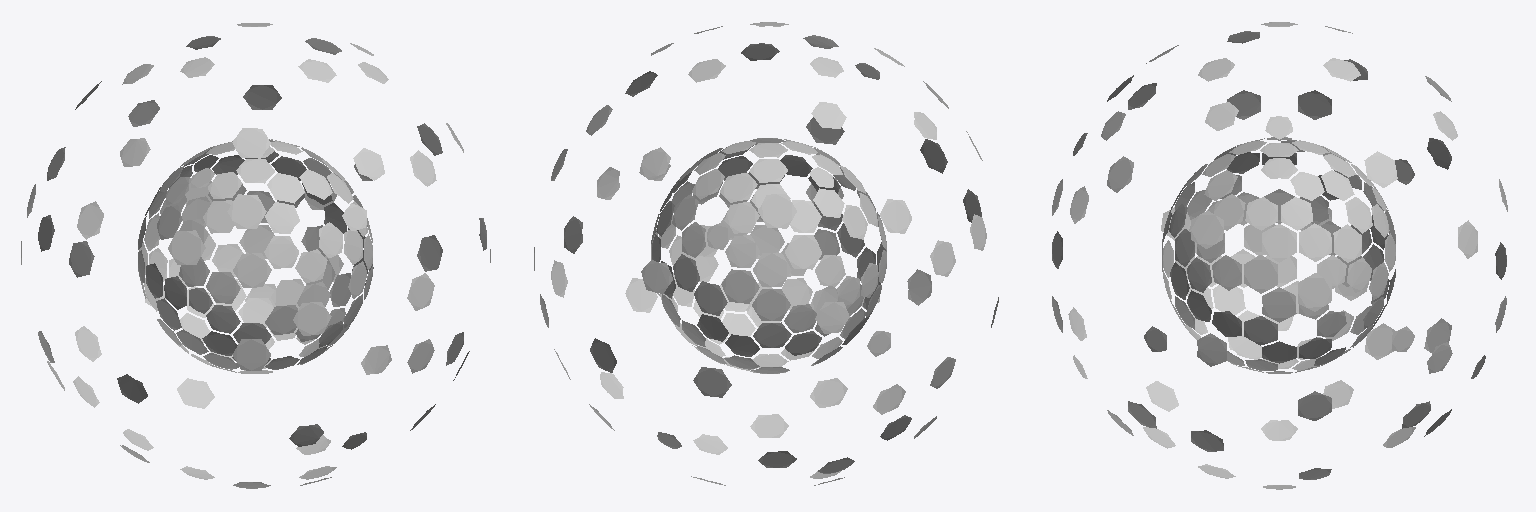
The model's file is hexx03.obj.
The picture shows the model from 3 angles: view 1: azimuth 30°, elevation 25°; view 2: azimuth 150°, elevation 25°; view 3: azimuth 270°, elevation 25°; orthographic projection.
Visible parts, largest first — view 1: Subdivision_Surface; view 2: Subdivision_Surface; view 3: Subdivision_Surface.
Part boxes in pixels (left/top/right/bottom): Subdivision_Surface: left=21, top=23, right=490, bottom=488; Subdivision_Surface: left=534, top=22, right=998, bottom=485; Subdivision_Surface: left=1052, top=22, right=1507, bottom=489.
Size of the model in its own units: 379 by 380 by 379.